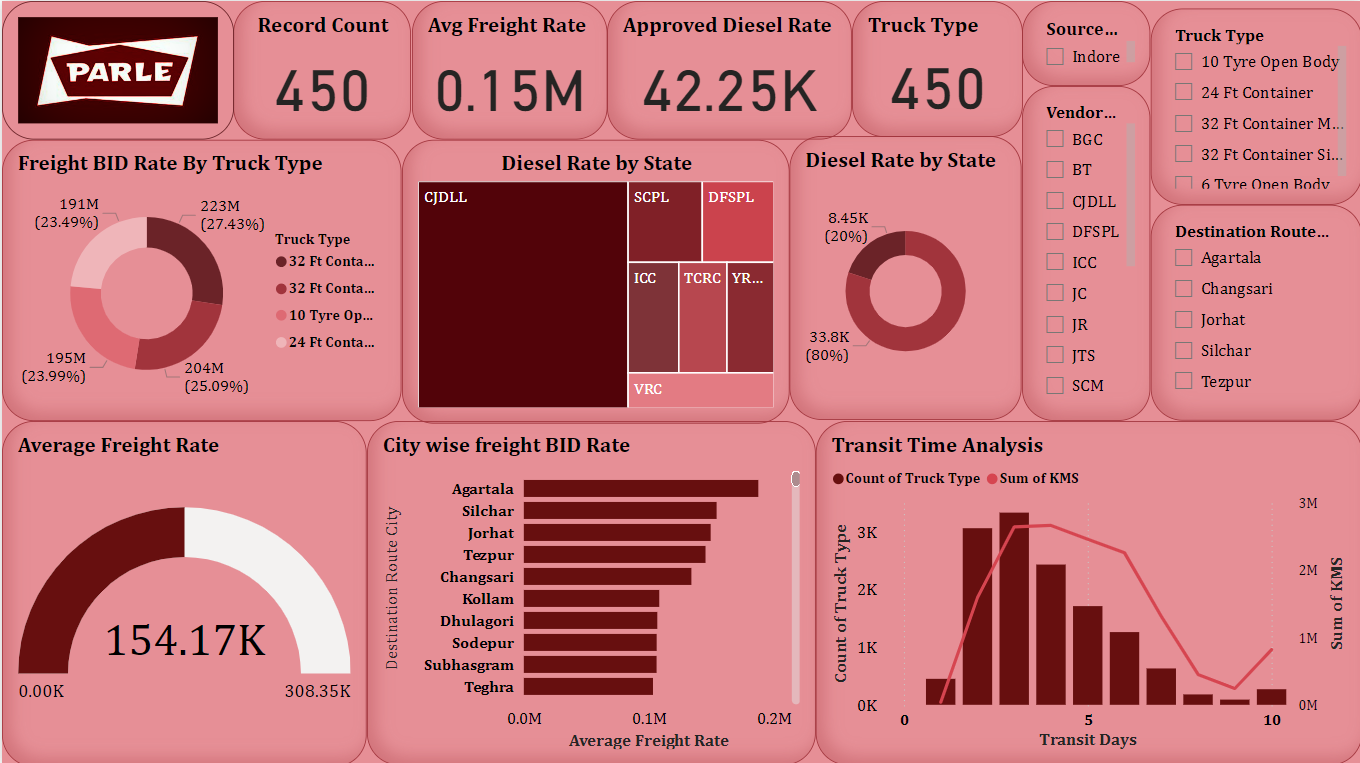

This screenshot's page, from the dashboard's own definition file:
{"tool":"powerbi","page":{"name":"Page 1","canvas":[1280,720],"ordinal":0},"visuals":[{"type":"lineClusteredColumnComboChart","title":"Transit Time Analysis","fields":{"Category":["Indore.Transit Days"],"Y":["CountNonNull(Indore.Truck Type)"],"Y2":["Sum(Indore.KMS)"]},"box":[765.7,395.2,514.6,323.8],"z":0},{"type":"clusteredBarChart","title":"City wise freight BID Rate","fields":{"Category":["Indore.Destination Route City"],"Y":["Indore.Average Freight Rate"]},"box":[343.1,395.2,422.6,323.8],"z":1000},{"type":"slicer","title":"Diesel Rate by State","fields":{"Values":["Indore.Destination Route City"]},"box":[1081.4,261.6,198.8,133.7],"z":2000},{"type":"gauge","title":"Average Freight Rate","fields":{"Y":["Indore.Average Freight Rate"]},"box":[0,395.2,343.1,325.2],"z":3000},{"type":"card","title":"Record Count","fields":{"Values":["Indore.Total Record Count"]},"box":[218.2,0,167.4,130.4],"z":4000},{"type":"donutChart","title":"Freight BID Rate By Truck Type","fields":{"Category":["Indore.Truck Type"],"Y":["Sum(Indore.Freight BID Rate)"]},"box":[0,130.4,376,264.8],"z":5000},{"type":"donutChart","title":"Diesel Rate by State","fields":{"Y":["Sum(Indore.Last Approved Diesel Rate)"],"Category":["Indore.Destination Route State"]},"box":[741,127.6,218.2,267.6],"z":6000},{"type":"slicer","title":"Diesel Rate by State","fields":{"Values":["Indore.Source Route City"]},"box":[960.5,0,119.8,87.2],"z":7000},{"type":"slicer","title":"Diesel Rate by State","fields":{"Values":["Indore.Vendor Name"]},"box":[960.5,87.2,120.9,308.1],"z":8000},{"type":"slicer","title":"Diesel Rate by State","fields":{"Values":["Indore.Truck Type"]},"box":[1081.4,87.2,198.8,176.7],"z":9000},{"type":"card","title":"Avg Freight Rate","fields":{"Values":["Indore.Average Freight Rate"]},"box":[385.6,0,183.9,130.4],"z":10000},{"type":"card","title":"Truck Type","fields":{"Values":["CountNonNull(Indore.Truck Type)"]},"box":[800,0,160.5,127.6],"z":11000},{"type":"card","title":"Approved Diesel Rate","fields":{"Values":["Sum(Indore.Last Approved Diesel Rate)"]},"box":[569.5,0,230.5,130.4],"z":12000},{"type":"treemap","title":"Diesel Rate by State","fields":{"Values":["Avg(Indore.Freight BID Rate)"],"Group":["Indore.Vendor Name"]},"box":[376,130.4,365,267.6],"z":13000},{"type":"image","box":[0,0,218.2,130.4],"z":14000},{"type":"textbox","box":[1081.4,0,198.8,87.2],"z":15000}]}

Visuals, with their boxes in screenshot pixels (x1, y1, x2, y2), scaled from the page's 1280x720 canvas onto the 1360x763 screenshot:
"Transit Time Analysis" lineClusteredColumnComboChart: <box>814,419,1359,762</box>
"City wise freight BID Rate" clusteredBarChart: <box>365,419,814,762</box>
"Diesel Rate by State" slicer: <box>1149,277,1359,419</box>
"Average Freight Rate" gauge: <box>0,419,365,762</box>
"Record Count" card: <box>232,0,410,138</box>
"Freight BID Rate By Truck Type" donutChart: <box>0,138,400,419</box>
"Diesel Rate by State" donutChart: <box>787,135,1019,419</box>
"Diesel Rate by State" slicer: <box>1021,0,1148,92</box>
"Diesel Rate by State" slicer: <box>1021,92,1149,419</box>
"Diesel Rate by State" slicer: <box>1149,92,1359,280</box>
"Avg Freight Rate" card: <box>410,0,605,138</box>
"Truck Type" card: <box>850,0,1021,135</box>
"Approved Diesel Rate" card: <box>605,0,850,138</box>
"Diesel Rate by State" treemap: <box>400,138,787,422</box>
image: <box>0,0,232,138</box>
textbox: <box>1149,0,1359,92</box>
